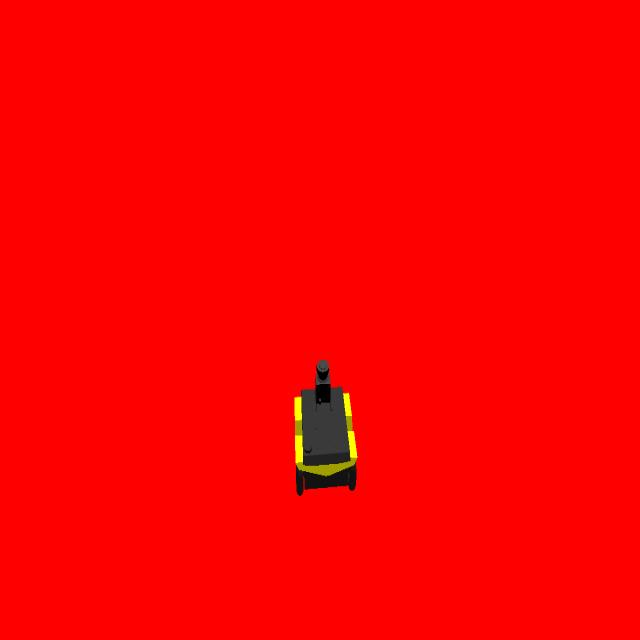jackal: (291, 358, 359, 503)
